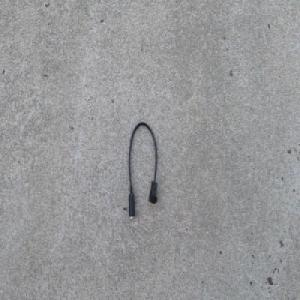Wire: (127, 120, 158, 220)
